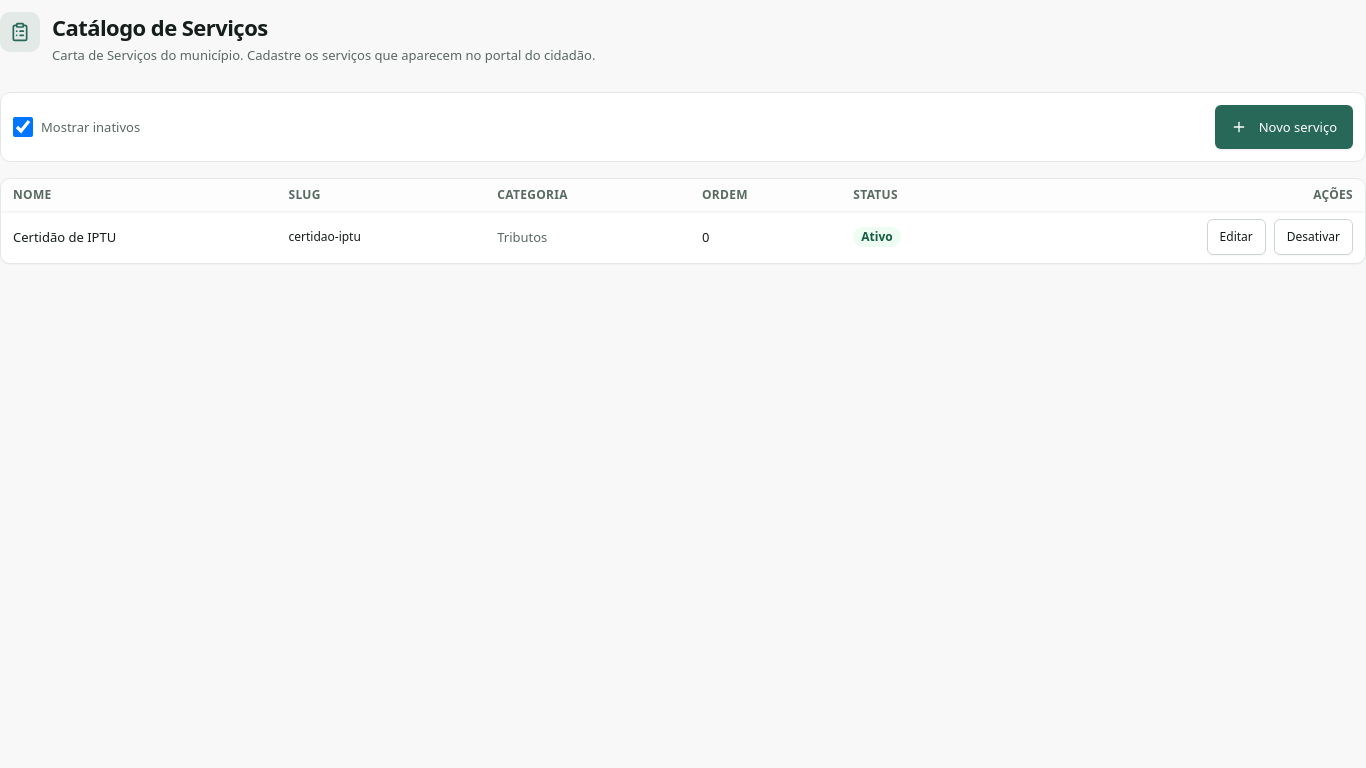
Test: ServicosPage — Fase F (UX-1 catálogo) › todos os campos do formulário continuam presentes após o agrupamento
Expected: the text "Certidão de IPTU" is shown, [1,211,276,263]
Click the button "Editar" at (1236, 237), box [1207,219,1266,255]
(page scrolled)
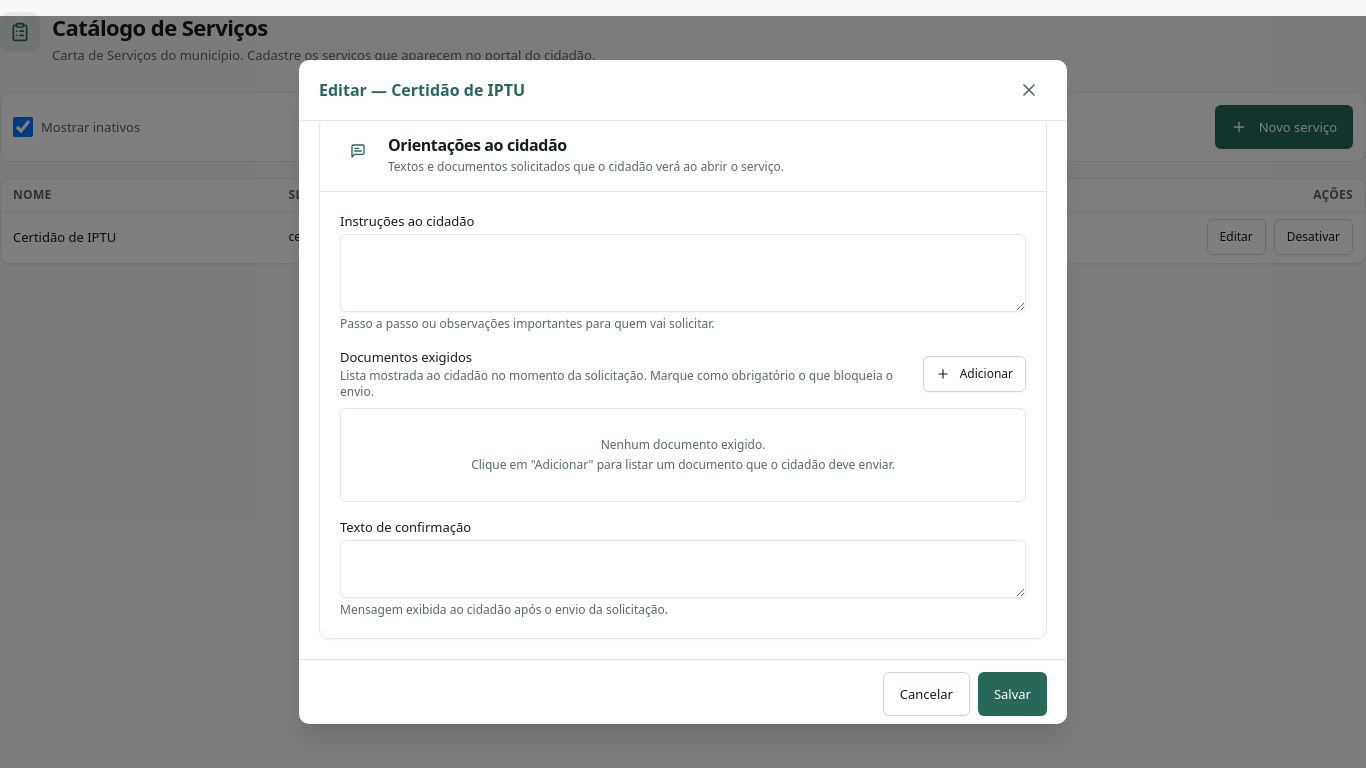
Expected: the text box labelled "Texto de confirmação" is shown, [340,540,1026,598]
Expected: the text box labelled "Instruções ao cidadão" is shown, [340,234,1026,312]
